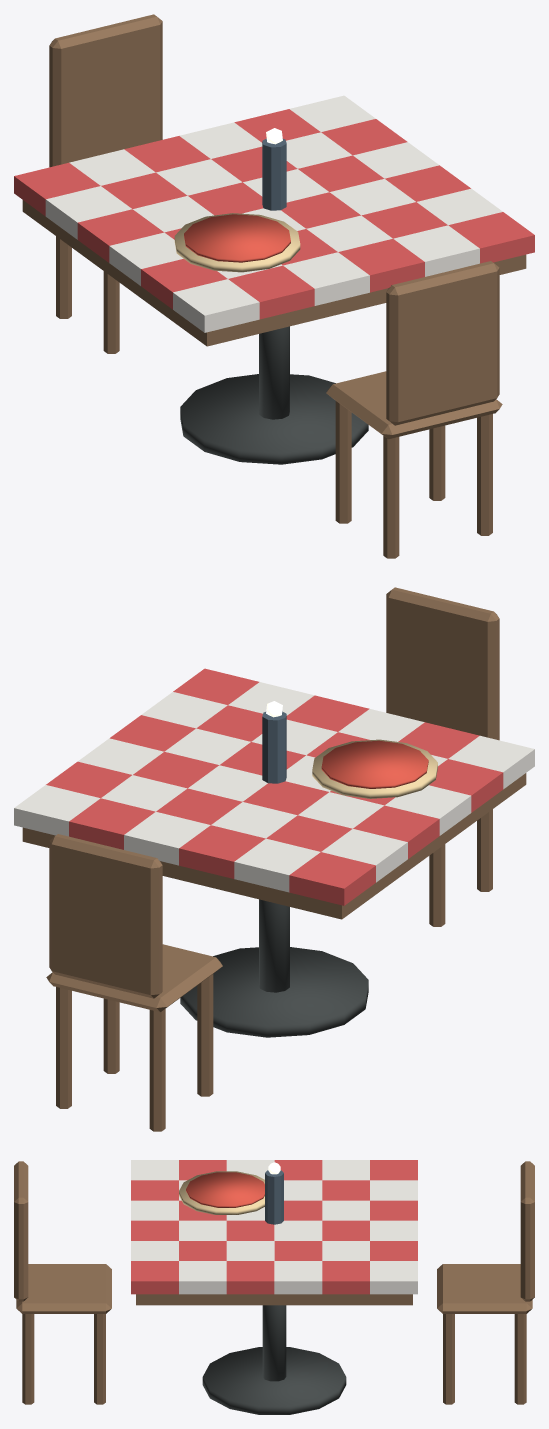
File: pizza-table.glb
3 renders of one model, top to bottom at view 1: azimuth 30°, elevation 25°; view 2: azimuth 150°, elevation 25°; view 3: azimuth 270°, elevation 25°, orthographic. The views are drawn at different scales.
Parts seen in each view (by area): view 1: pizza-table; view 2: pizza-table; view 3: pizza-table.
Boxes of the visible parts, box(x1,y1,x2,y2) form: pizza-table: box(14, 14, 534, 558); pizza-table: box(14, 587, 534, 1131); pizza-table: box(14, 1160, 534, 1414).
Size of the model in its own units: 1.2 by 1.03 by 2.18.
